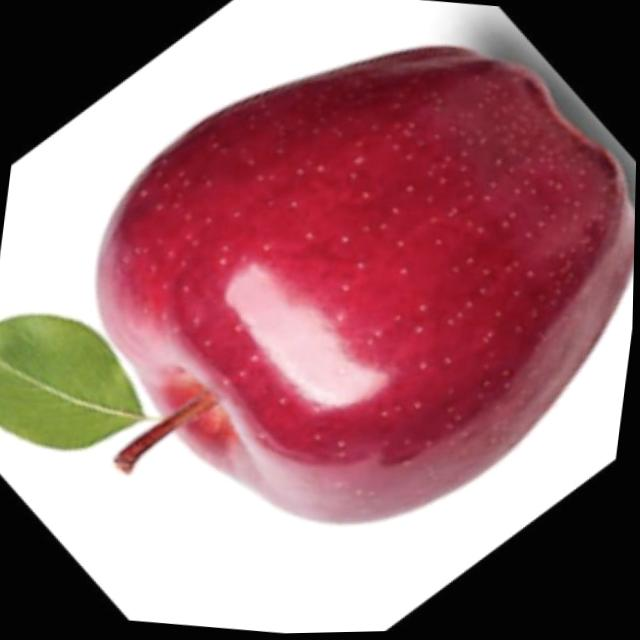Apple: (65, 10, 640, 561)
